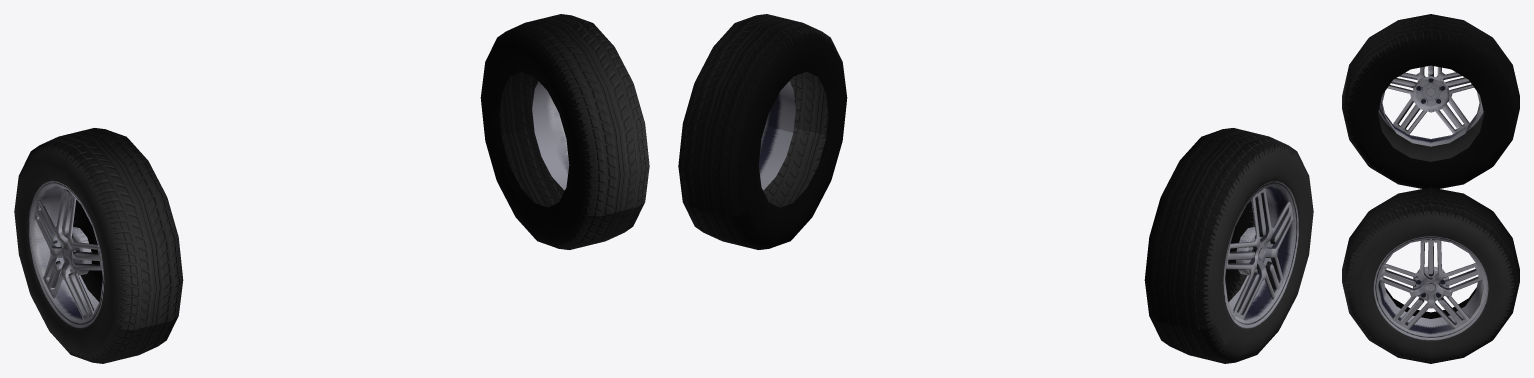
File: 2003eclipse_frontal_wheels.obj
3 renders of one model, left to right at view 1: azimuth 30°, elevation 25°; view 2: azimuth 150°, elevation 25°; view 3: azimuth 270°, elevation 25°, orthographic. The views are drawn at different scales.
Parts seen in each view (by area): view 1: wheels_n_acc.000_wheels_n_acc.004; view 2: wheels_n_acc.000_wheels_n_acc.004; view 3: wheels_n_acc.000_wheels_n_acc.004.
Part boxes in pixels (bbox=[...]): wheels_n_acc.000_wheels_n_acc.004: bbox=[14, 14, 649, 363]; wheels_n_acc.000_wheels_n_acc.004: bbox=[678, 14, 1313, 363]; wheels_n_acc.000_wheels_n_acc.004: bbox=[1342, 14, 1519, 363].
Bounding box in the file's own units: 5.65 × 2.12 × 2.12.
Materials: 1 (1 with a texture image).
